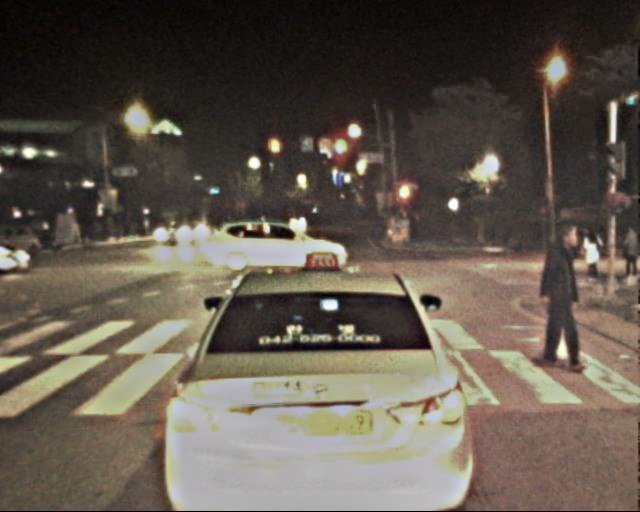person: (528, 221, 587, 366), (577, 224, 603, 287), (617, 227, 639, 285)
